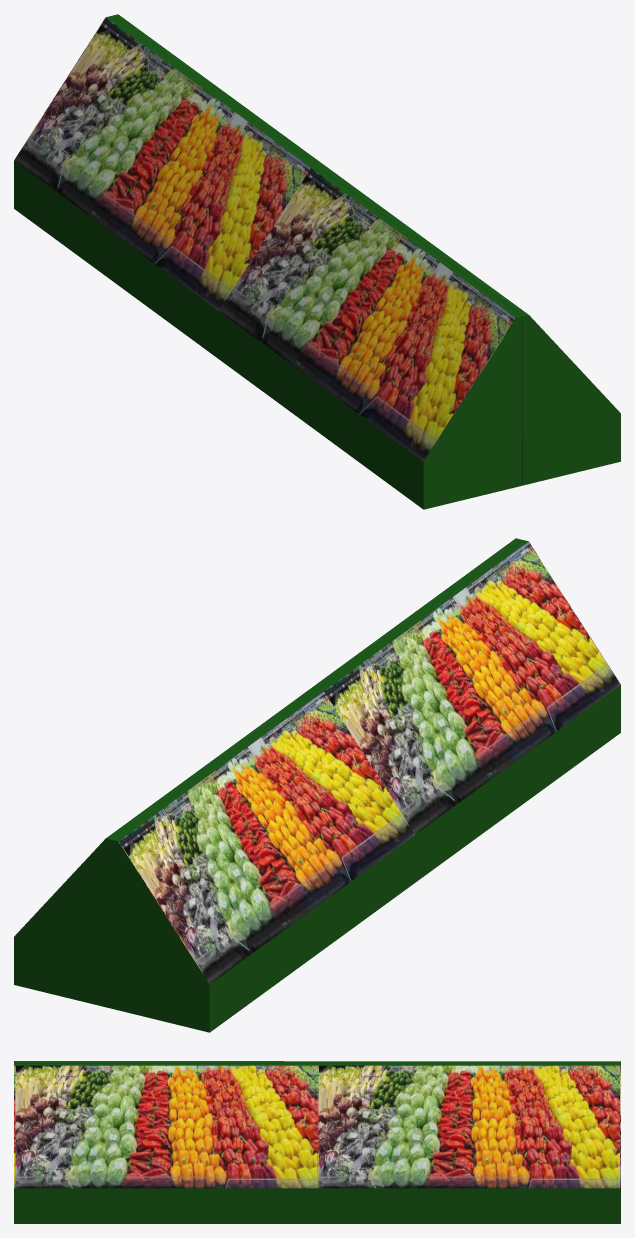
Rendered from Shelf_sayur 2.fbx.
3 views of the same model, one above another, from view 1: azimuth 30°, elevation 25°; view 2: azimuth 150°, elevation 25°; view 3: azimuth 270°, elevation 25° (orthographic). The views are drawn at different scales.
Visible parts, largest first — view 1: Librero.022; view 2: Librero.022; view 3: Librero.022.
Part boxes in pixels (x1,y1,x2,y2): Librero.022: [14, 14, 620, 509]; Librero.022: [14, 538, 620, 1032]; Librero.022: [14, 1061, 620, 1223].
Bounding box in the file's own units: 187 × 153 × 675.
